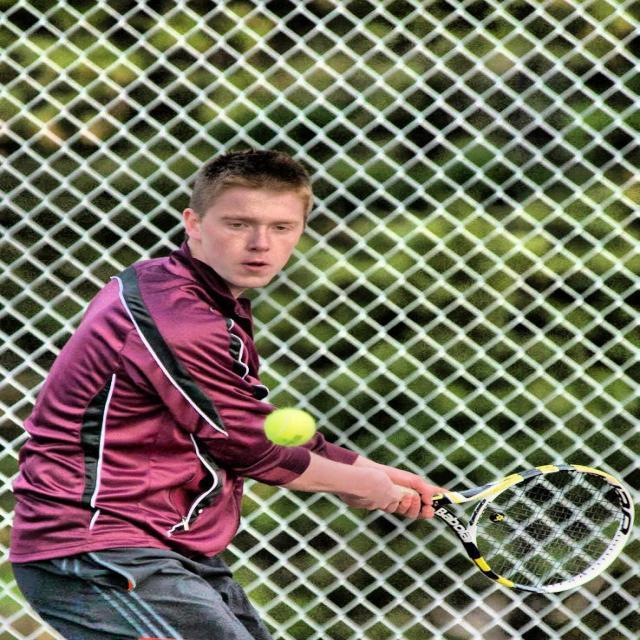tennis-ball: (266, 406, 316, 446)
